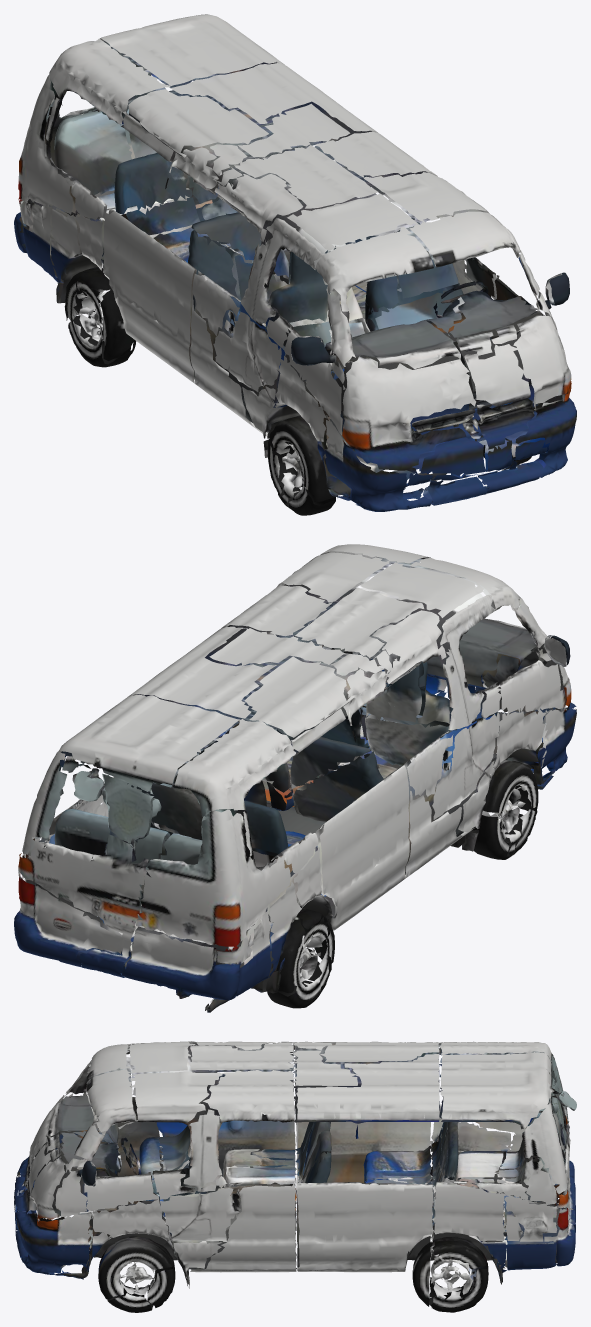
Rendered from microbus.glb.
The picture shows the model from 3 angles, top to bottom: view 1: azimuth 30°, elevation 25°; view 2: azimuth 150°, elevation 25°; view 3: azimuth 270°, elevation 25°; orthographic projection. The views are drawn at different scales.
Visible parts, largest first — view 1: Microbus; view 2: Microbus; view 3: Microbus.
Part boxes in pixels (left/top/right/bottom): Microbus: left=14, top=14, right=576, bottom=515; Microbus: left=14, top=544, right=576, bottom=1012; Microbus: left=14, top=1041, right=576, bottom=1312.
Bounding box in the file's own units: 2.19 × 2.02 × 5.
1 material, 1 textured.
